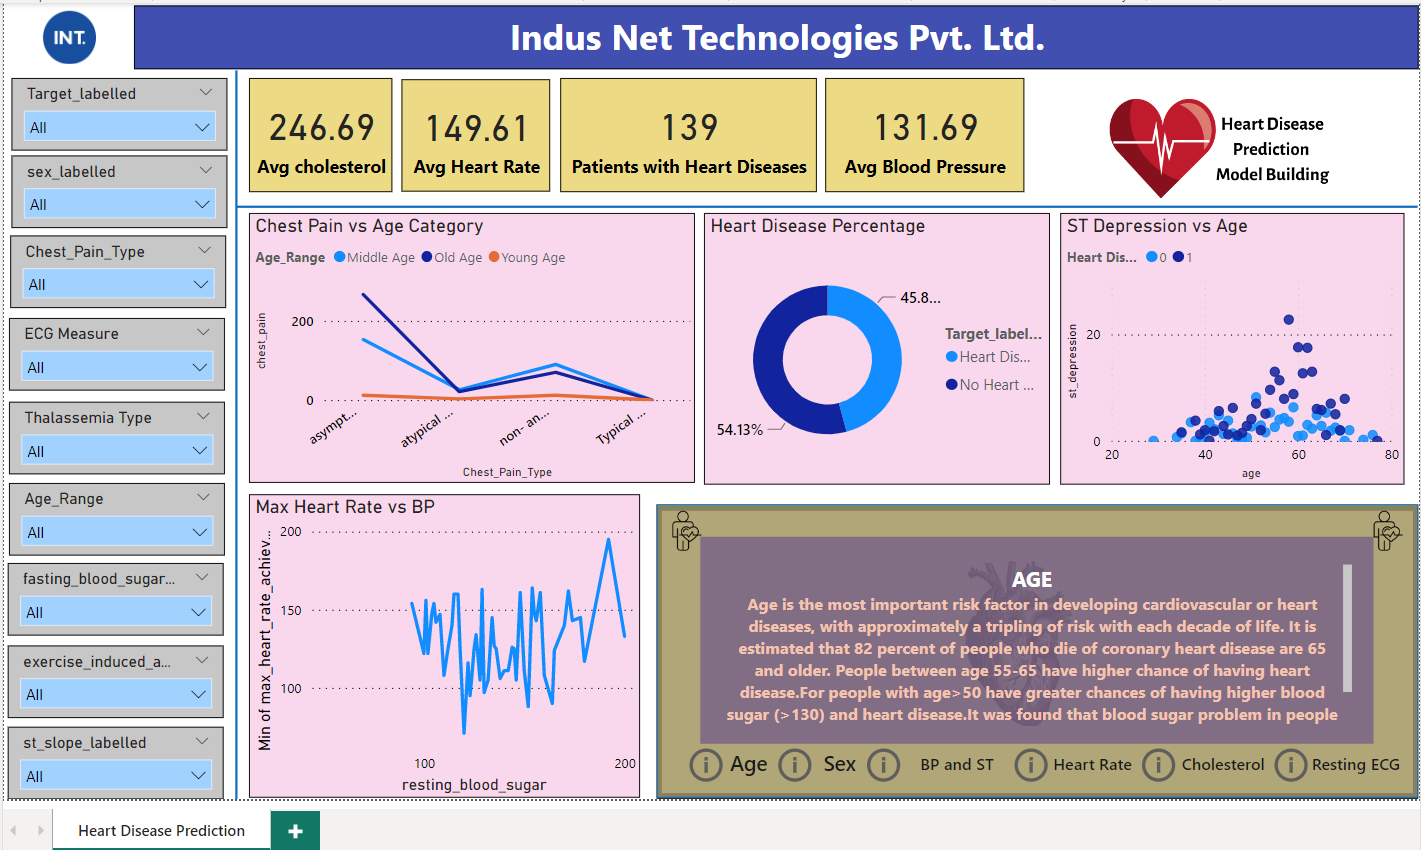

Layout of this report page (visuals, bound fields, positions):
{"tool":"powerbi","page":{"name":"Heart Disease Prediction","canvas":[1280,720],"ordinal":0},"visuals":[{"type":"image","box":[590.3,454.2,688.6,265.3],"z":0},{"type":"shape","box":[589.7,453.3,688.8,266],"z":1000},{"type":"actionButton","box":[615.4,669.7,79.2,39.6],"z":2000},{"type":"actionButton","box":[694.6,669.7,79.2,39.6],"z":3000},{"type":"actionButton","box":[775.1,669.7,123.8,39.6],"z":4000},{"type":"actionButton","box":[908.8,669.7,115.1,39.6],"z":5000},{"type":"actionButton","box":[1023.9,669.7,120.1,39.6],"z":6000},{"type":"actionButton","box":[1144,669.7,122.6,39.6],"z":7000},{"type":"shape","box":[630.1,483.1,609,186.9],"z":8000},{"type":"textbox","title":"Age Text","box":[647.7,503,576.5,154.9],"z":10000},{"type":"image","box":[590.3,454.2,54.3,45.8],"z":15000},{"type":"image","box":[1224.6,454.2,54.3,45.8],"z":16000},{"type":"slicer","fields":{"Values":["Dataset.Chest_Pain_Type"]},"box":[5.7,210.2,195.5,65.6],"z":17000},{"type":"slicer","fields":{"Values":["Dataset.sex1"]},"box":[6.8,137.9,195.5,65.6],"z":18000},{"type":"slicer","fields":{"Values":["Dataset.ECG Measure"]},"box":[4.5,284.8,195.5,65.6],"z":19000},{"type":"slicer","fields":{"Values":["Dataset.Age_Range"]},"box":[4.5,434,195.5,65.6],"z":20000},{"type":"slicer","fields":{"Values":["Dataset.fasting_blood_sugar_labelled"]},"box":[3.4,506.4,195.5,65.6],"z":21000},{"type":"slicer","fields":{"Values":["Dataset.exercise_induced_angina_labelled"]},"box":[3.4,581,195.5,65.6],"z":22000},{"type":"slicer","fields":{"Values":["Dataset.st_slope_labelled"]},"box":[3.4,654.4,195.5,65.6],"z":23000},{"type":"slicer","fields":{"Values":["Dataset.Thalassemia Type"]},"box":[4.5,360.6,195.5,65.6],"z":24000},{"type":"slicer","fields":{"Values":["Dataset.Target_labelled"]},"box":[6.8,67.8,195.5,65.6],"z":25000},{"type":"image","box":[0,2.3,117.6,57.6],"z":26000},{"type":"image","box":[922.3,59.9,357.2,124.3],"z":27000},{"type":"textbox","box":[117.6,2.3,1161.9,57.6],"z":28000},{"type":"shape","box":[198.9,61,22.6,659],"z":29000},{"type":"card","fields":{"Values":["Avg(Dataset.cholesterol)"]},"box":[221.5,67.8,130,102.9],"z":30000},{"type":"card","fields":{"Values":["Avg(Dataset.max_heart_rate_achieved)"]},"box":[359.4,68.9,134.5,101.7],"z":31000},{"type":"card","fields":{"Values":["Avg(Dataset.resting_blood_sugar)"]},"box":[742.6,67.8,179.7,102.9],"z":32000},{"type":"card","fields":{"Values":["Sum(Dataset.target)"]},"box":[503,67.8,231.7,102.9],"z":33000},{"type":"lineChart","title":"Max Heart  Rate vs BP","fields":{"Y":["Min(Dataset.max_heart_rate_achieved)"],"Category":["Dataset.resting_blood_sugar"]},"box":[221.5,444.2,353.8,274.7],"z":34000},{"type":"scatterChart","title":"ST Depression vs Age","fields":{"X":["Dataset.age"],"Y":["Dataset.st_depression"],"Series":["Dataset.target"]},"box":[955.1,189.9,310.8,245.3],"z":35000},{"type":"donutChart","title":"Heart Disease Percentage","fields":{"Category":["Dataset.Target_labelled"],"Y":["CountNonNull(Dataset.Target_labelled)"]},"box":[633,189.9,313.1,245.3],"z":36000},{"type":"lineChart","title":"Chest Pain vs Age Category","fields":{"Category":["Dataset.Chest_Pain_Type"],"Y":["Sum(Dataset.chest_pain)"],"Series":["Dataset.Age_Range"]},"box":[221.5,189.9,403.5,244.1],"z":37000},{"type":"shape","box":[210.2,158.2,1068.1,52],"z":37001}]}

Visuals, with their boxes in screenshot pixels (x1, y1, x2, y2):
image: left=650, top=497, right=1404, bottom=788
shape: left=649, top=496, right=1403, bottom=787
actionButton: left=677, top=733, right=764, bottom=777
actionButton: left=764, top=733, right=851, bottom=777
actionButton: left=852, top=733, right=988, bottom=777
actionButton: left=999, top=733, right=1125, bottom=777
actionButton: left=1125, top=733, right=1256, bottom=777
actionButton: left=1256, top=733, right=1390, bottom=777
shape: left=694, top=529, right=1360, bottom=734
"Age Text" textbox: left=713, top=551, right=1344, bottom=720
image: left=650, top=497, right=709, bottom=547
image: left=1344, top=497, right=1404, bottom=547
slicer - Dataset.Chest_Pain_Type: left=10, top=230, right=224, bottom=302
slicer - Dataset.sex1: left=11, top=151, right=225, bottom=223
slicer - Dataset.ECG Measure: left=9, top=312, right=223, bottom=384
slicer - Dataset.Age_Range: left=9, top=475, right=223, bottom=547
slicer - Dataset.fasting_blood_sugar_labelled: left=7, top=554, right=221, bottom=626
slicer - Dataset.exercise_induced_angina_labelled: left=7, top=636, right=221, bottom=708
slicer - Dataset.st_slope_labelled: left=7, top=716, right=221, bottom=788
slicer - Dataset.Thalassemia Type: left=9, top=395, right=223, bottom=467
slicer - Dataset.Target_labelled: left=11, top=74, right=225, bottom=146
image: left=4, top=3, right=132, bottom=66
image: left=1013, top=66, right=1405, bottom=202
textbox: left=132, top=3, right=1405, bottom=66
shape: left=221, top=67, right=246, bottom=788
card - Avg(Dataset.cholesterol): left=246, top=74, right=389, bottom=187
card - Avg(Dataset.max_heart_rate_achieved): left=397, top=75, right=544, bottom=187
card - Avg(Dataset.resting_blood_sugar): left=817, top=74, right=1013, bottom=187
card - Sum(Dataset.target): left=554, top=74, right=808, bottom=187
"Max Heart  Rate vs BP" lineChart: left=246, top=486, right=634, bottom=787
"ST Depression vs Age" scatterChart: left=1049, top=208, right=1390, bottom=476
"Heart Disease Percentage" donutChart: left=697, top=208, right=1039, bottom=476
"Chest Pain vs Age Category" lineChart: left=246, top=208, right=688, bottom=475
shape: left=234, top=173, right=1403, bottom=230
